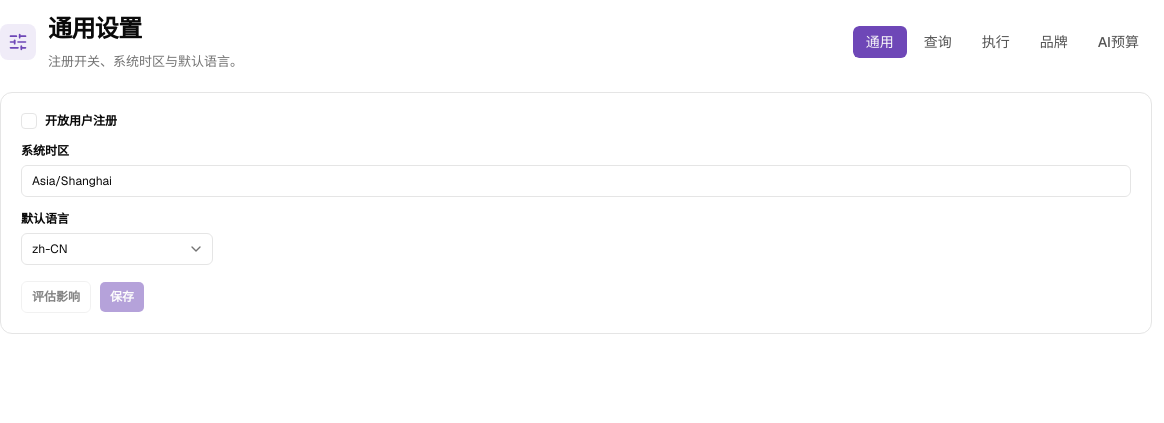
admin settings visual consistency › surfaces the server-side rejection of a well-formed but unknown zone (F-SET-001)
Replace the text in the field with test id "settings-general-timezone" with "UTCUTCAsia/Shanghai" at (576, 181), box [21,165,1131,197]
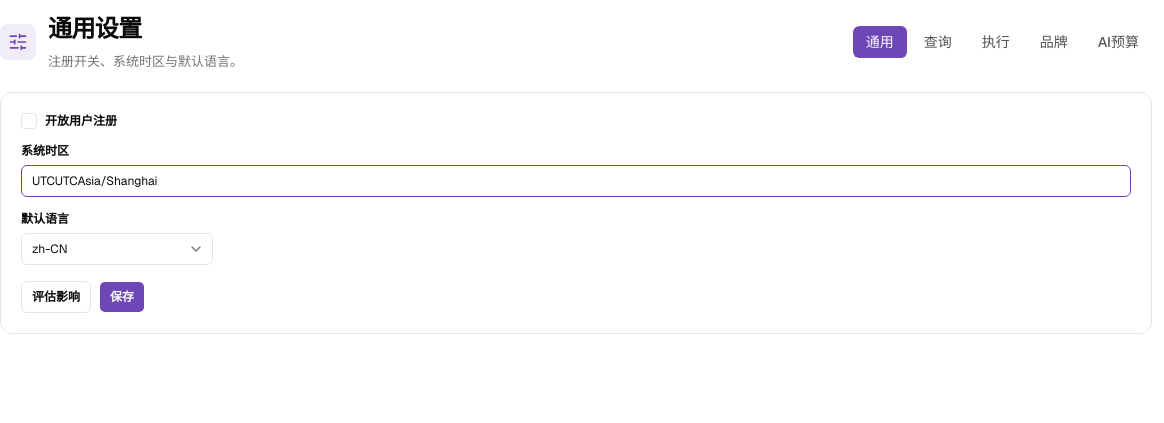
Check: the message with test id "settings-timezone-blocked" is gone
Click the button with test id "settings-save" at (122, 297), box [99,281,145,313]
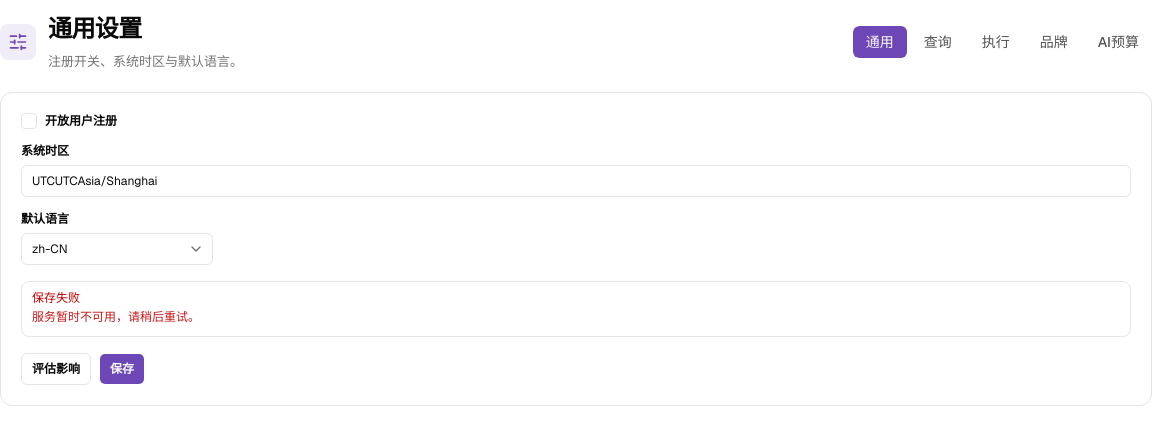
Check: the message "保存失败 服务暂时不可用，请稍后重试。" is shown, box [21,281,1131,337]
